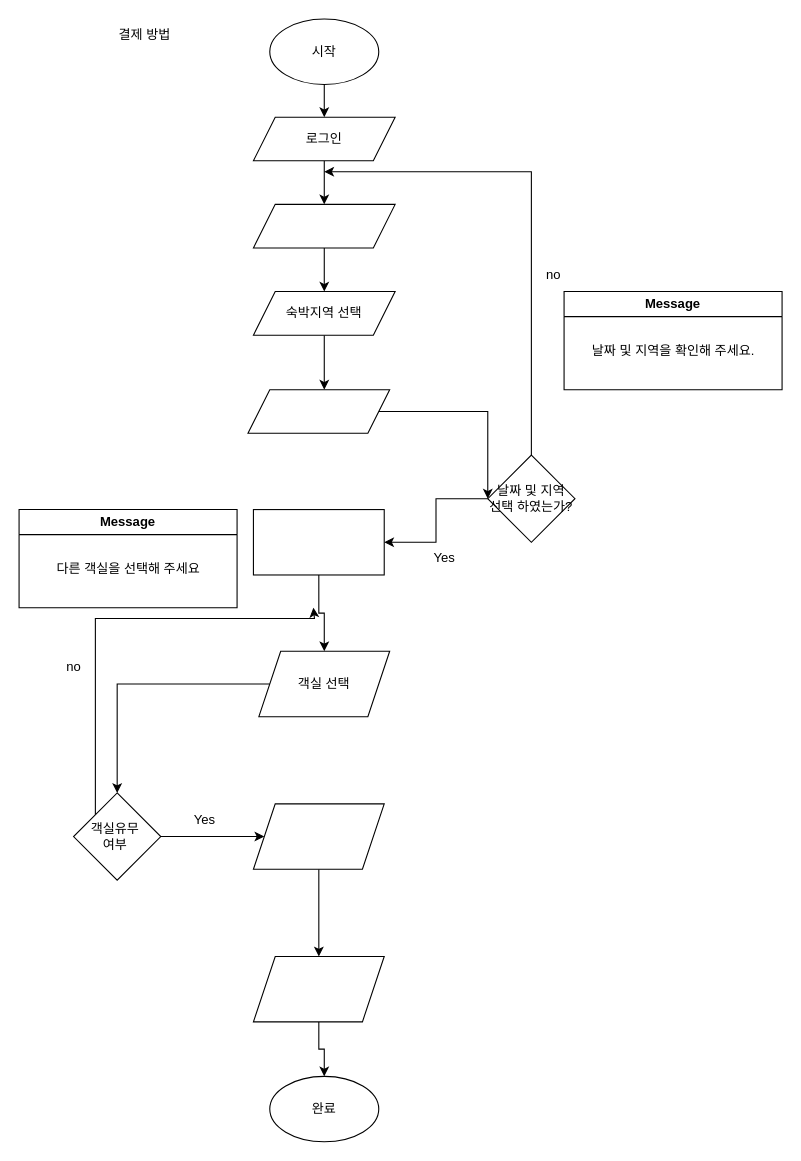
Image size: 801x1161. Some labels were removed from this diagram. The centre of each missing label's shape, as x and y in pixels:
검색 버튼 클릭: [318,411]
결제: [318,988]
결제 방식 선택: [318,836]
숙박 업소 확인: [318,541]
숙박날짜 선택: [323,225]
